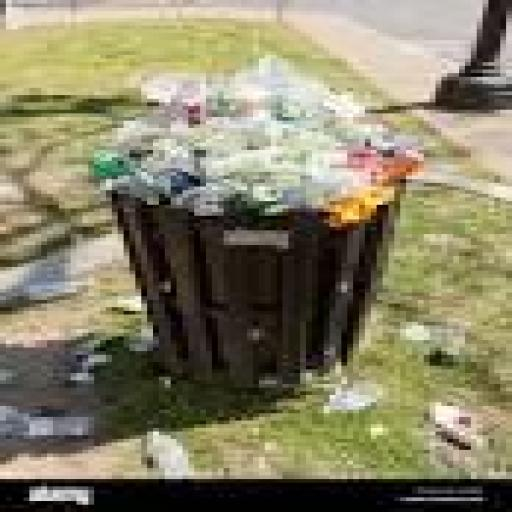poubelle_pleine: (39, 67, 467, 401)
